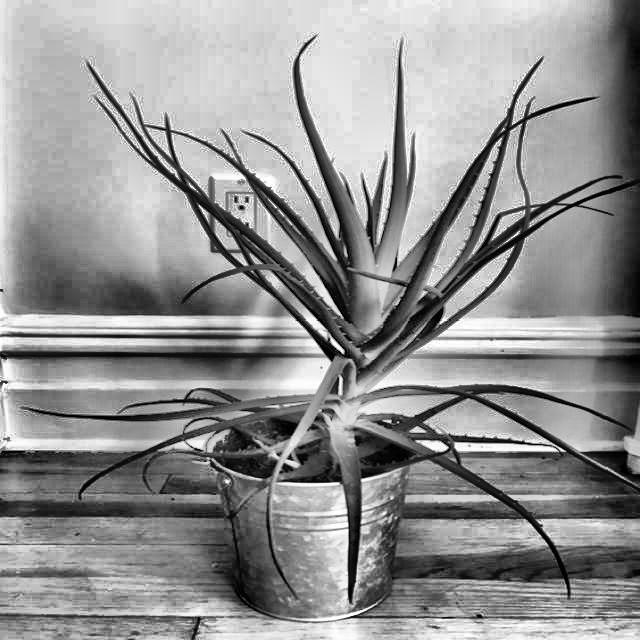plants: (75, 36, 634, 640), (77, 350, 558, 640)
